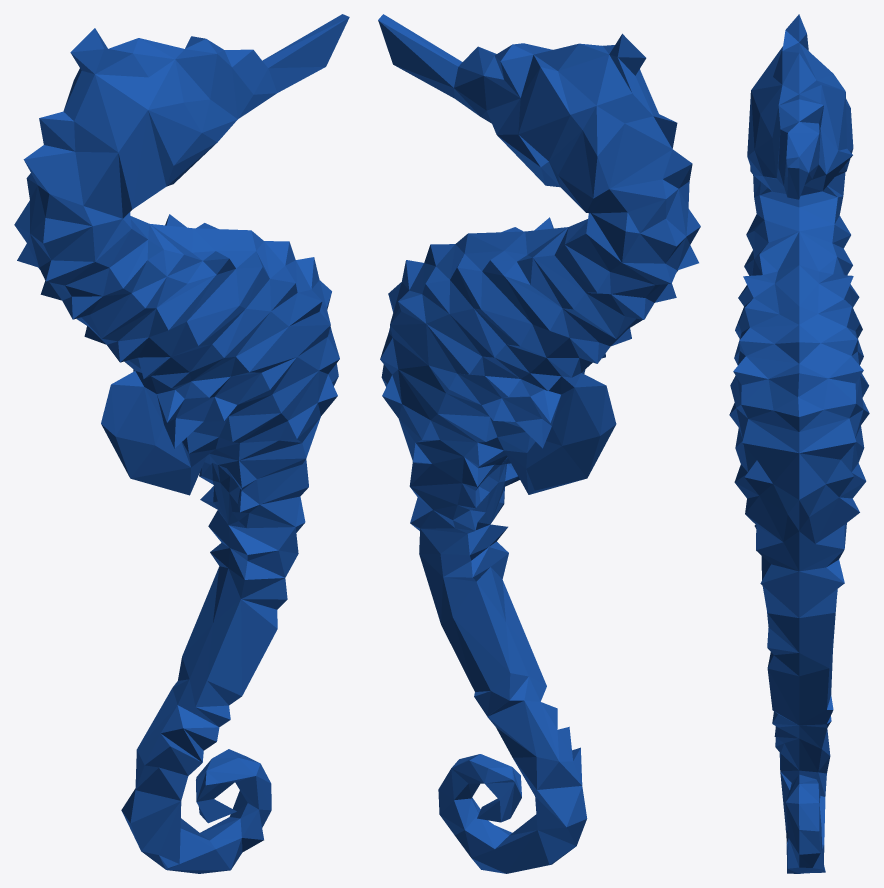
Rendered from Seahorse.obj.
3 renders of one model, left to right at view 1: azimuth 30°, elevation 25°; view 2: azimuth 150°, elevation 25°; view 3: azimuth 270°, elevation 25°, orthographic. The views are drawn at different scales.
Visible parts, largest first — view 1: Seahorse; view 2: Seahorse; view 3: Seahorse.
Part boxes in pixels (box(x1,y1,x2,y2)): Seahorse: box(14, 14, 349, 873); Seahorse: box(378, 14, 700, 873); Seahorse: box(729, 14, 869, 873).
Size of the model in its own units: 39.8 by 104 by 16.41.
